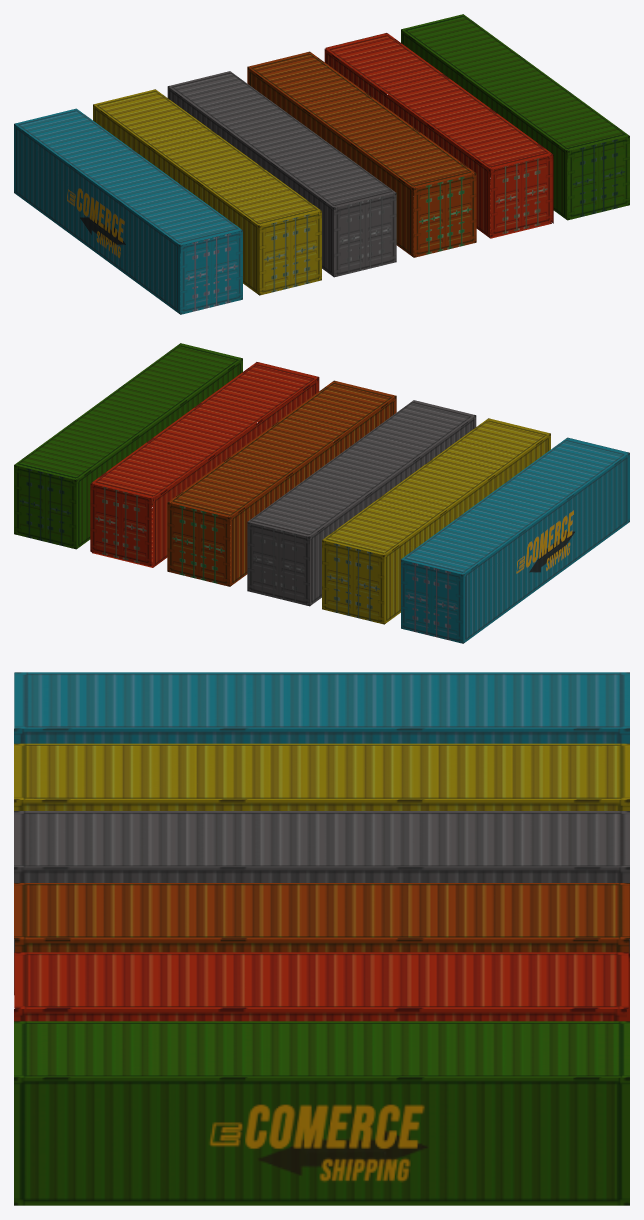
The model's file is Containers.fbx.
3 renders of one model, top to bottom at view 1: azimuth 30°, elevation 25°; view 2: azimuth 150°, elevation 25°; view 3: azimuth 270°, elevation 25°, orthographic. The views are drawn at different scales.
Visible parts, largest first — view 1: Blue, Red, Yellow, Orange, Green, Grey; view 2: Blue, Red, Yellow, Orange, Green, Grey; view 3: Green, Grey, Blue, Orange, Red, Yellow.
Boxes of the visible parts, bbox=[...] form: Blue: bbox=[14, 108, 242, 314]; Red: bbox=[247, 51, 476, 257]; Yellow: bbox=[93, 89, 321, 295]; Orange: bbox=[324, 33, 553, 238]; Green: bbox=[401, 14, 629, 220]; Grey: bbox=[167, 71, 396, 277]; Blue: bbox=[401, 437, 629, 643]; Red: bbox=[167, 380, 396, 586]; Yellow: bbox=[322, 418, 550, 624]; Orange: bbox=[90, 362, 319, 567]; Green: bbox=[14, 343, 242, 549]; Grey: bbox=[247, 400, 476, 606]; Green: bbox=[14, 1021, 629, 1205]; Grey: bbox=[14, 811, 629, 994]; Blue: bbox=[14, 672, 629, 743]; Orange: bbox=[14, 952, 629, 1021]; Red: bbox=[14, 883, 629, 953]; Yellow: bbox=[14, 743, 629, 810].
Bounding box in the file's own units: 1749 × 257 × 1123.
Materials: 1 (1 with a texture image).
